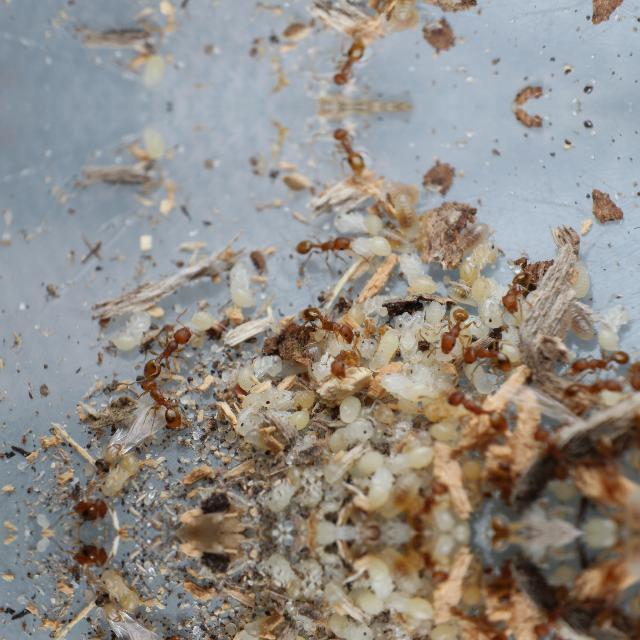Temnothorax: (124, 306, 213, 382), (441, 379, 514, 435), (300, 288, 368, 344), (588, 418, 632, 502), (133, 372, 193, 432), (398, 464, 448, 532), (398, 534, 448, 600), (290, 228, 368, 270), (588, 562, 630, 640), (324, 116, 370, 176), (324, 36, 370, 96), (536, 416, 578, 480), (563, 333, 631, 372), (432, 301, 474, 363), (461, 330, 521, 372), (560, 369, 622, 409), (534, 584, 578, 640), (494, 264, 536, 318), (60, 546, 120, 582), (60, 484, 120, 518), (334, 341, 366, 384)
